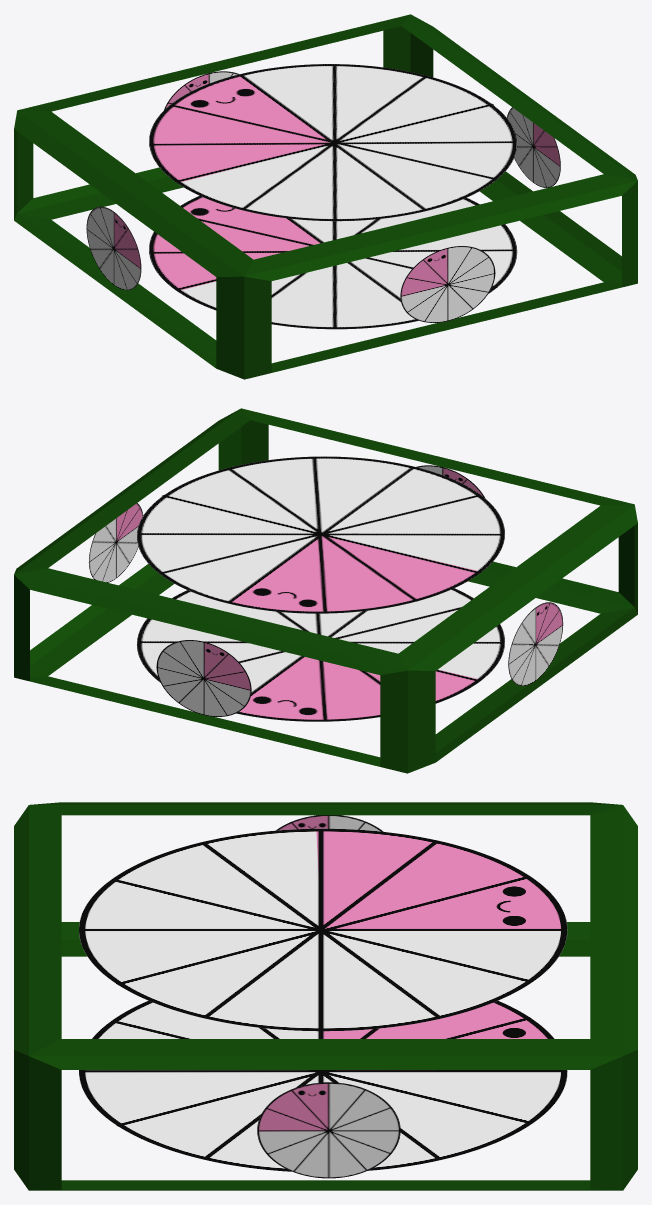
File: Fracciones tres doceavos.fbx
3 views of the same model, one above another, from view 1: azimuth 30°, elevation 25°; view 2: azimuth 150°, elevation 25°; view 3: azimuth 270°, elevation 25° (orthographic). The views are drawn at different scales.
Visible parts, largest first — view 1: 3/12; view 2: 3/12; view 3: 3/12.
Boxes of the visible parts, <box> form: 3/12: <box>14,14,637,379</box>; 3/12: <box>14,408,637,773</box>; 3/12: <box>14,802,637,1190</box>.
Size of the model in its own units: 213 by 52.5 by 210.
Materials: 2 (1 with a texture image).
